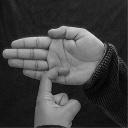hand: (3, 26, 106, 86), (33, 66, 82, 127)
